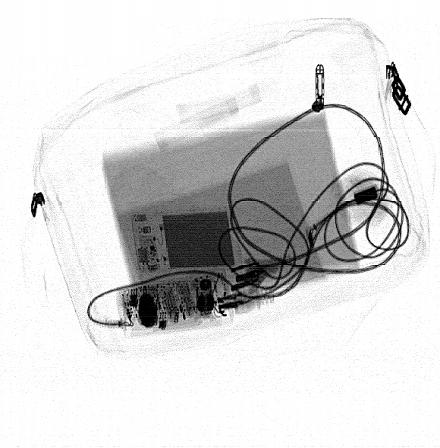Powerbank: (131, 204, 241, 272)
